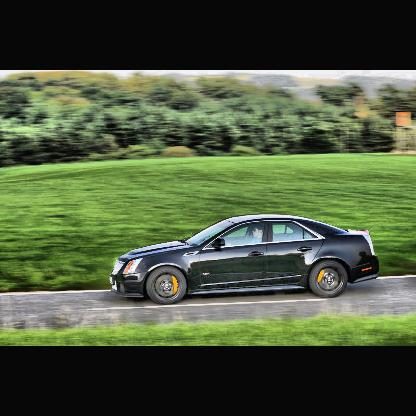Cadillac CTS-V Sedan 2012: (111, 215, 380, 304)
